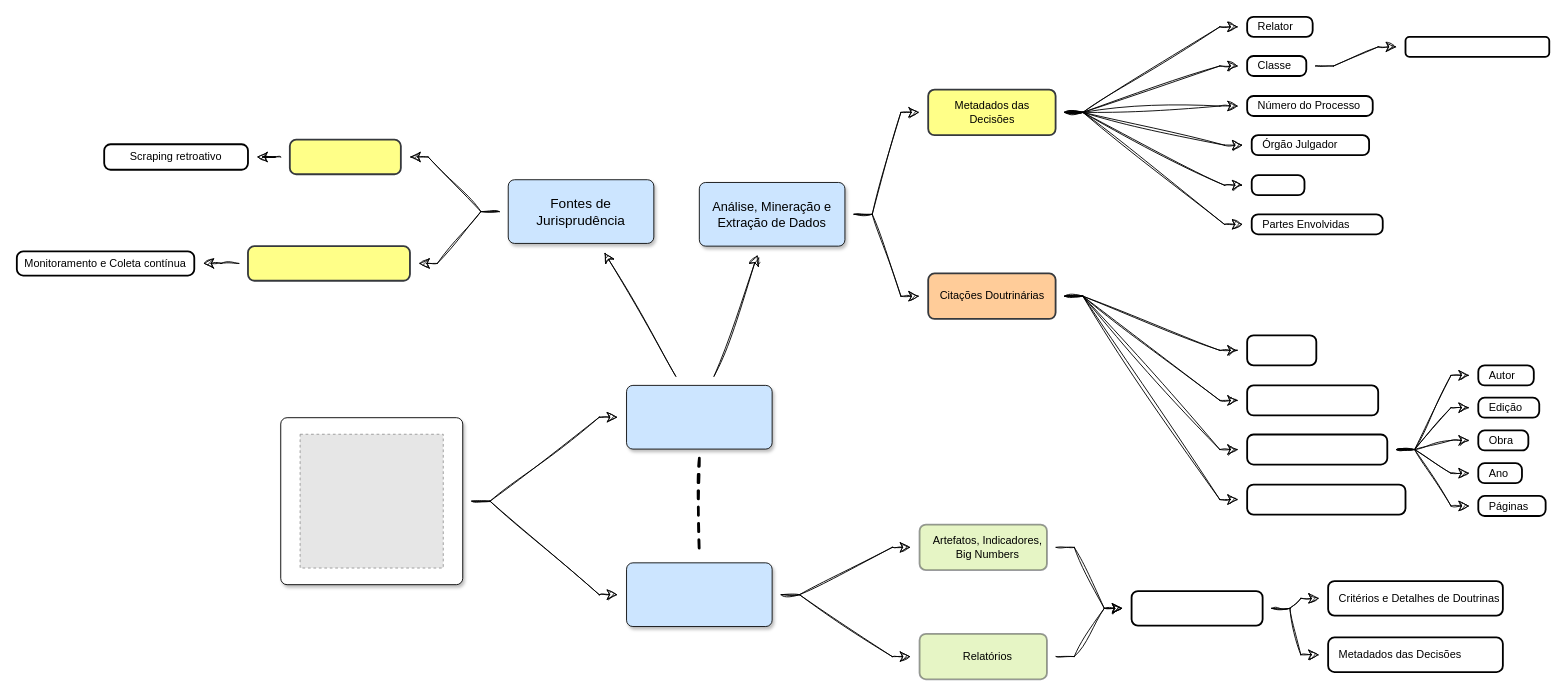
This 1565x695 diagram has some shape labels left out. Grey dashed boxes stand in for pictures. Here are the shapes that lost their labels. From the top down, the centre of each, then its label:
At [1477,46]: "ADI, ADC, ADPF, ADO".
At [344,156]: "Base Histórica".
At [1277,185]: "Datas".
At [328,263]: "Novas Jurisprudências".
At [1281,350]: "Autores".
At [700,418]: "Base de Jurisprudências".
At [1312,400]: "Obras, Artigos, Livros".
At [1317,449]: "Normalização de Dados".
At [1326,499]: "Rastreabilidade Completa".
At [700,595]: "Dashboard de Insights Jurídicos".
At [1196,608]: "Filtros Avançados".
